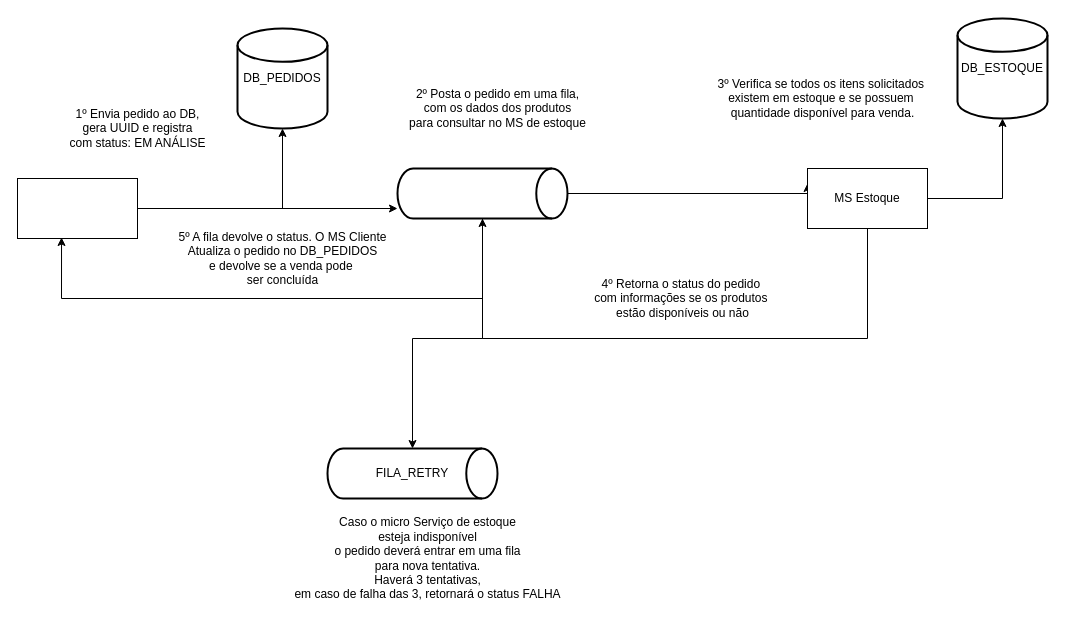
This 1066x625 diagram has some shape labels left out. Here are the shapes that lost their labels. From the top down, the centre of each, then its label:
At point (77, 208): "MS Cliente".
At point (482, 193): "FILA_PEDIDOS".
